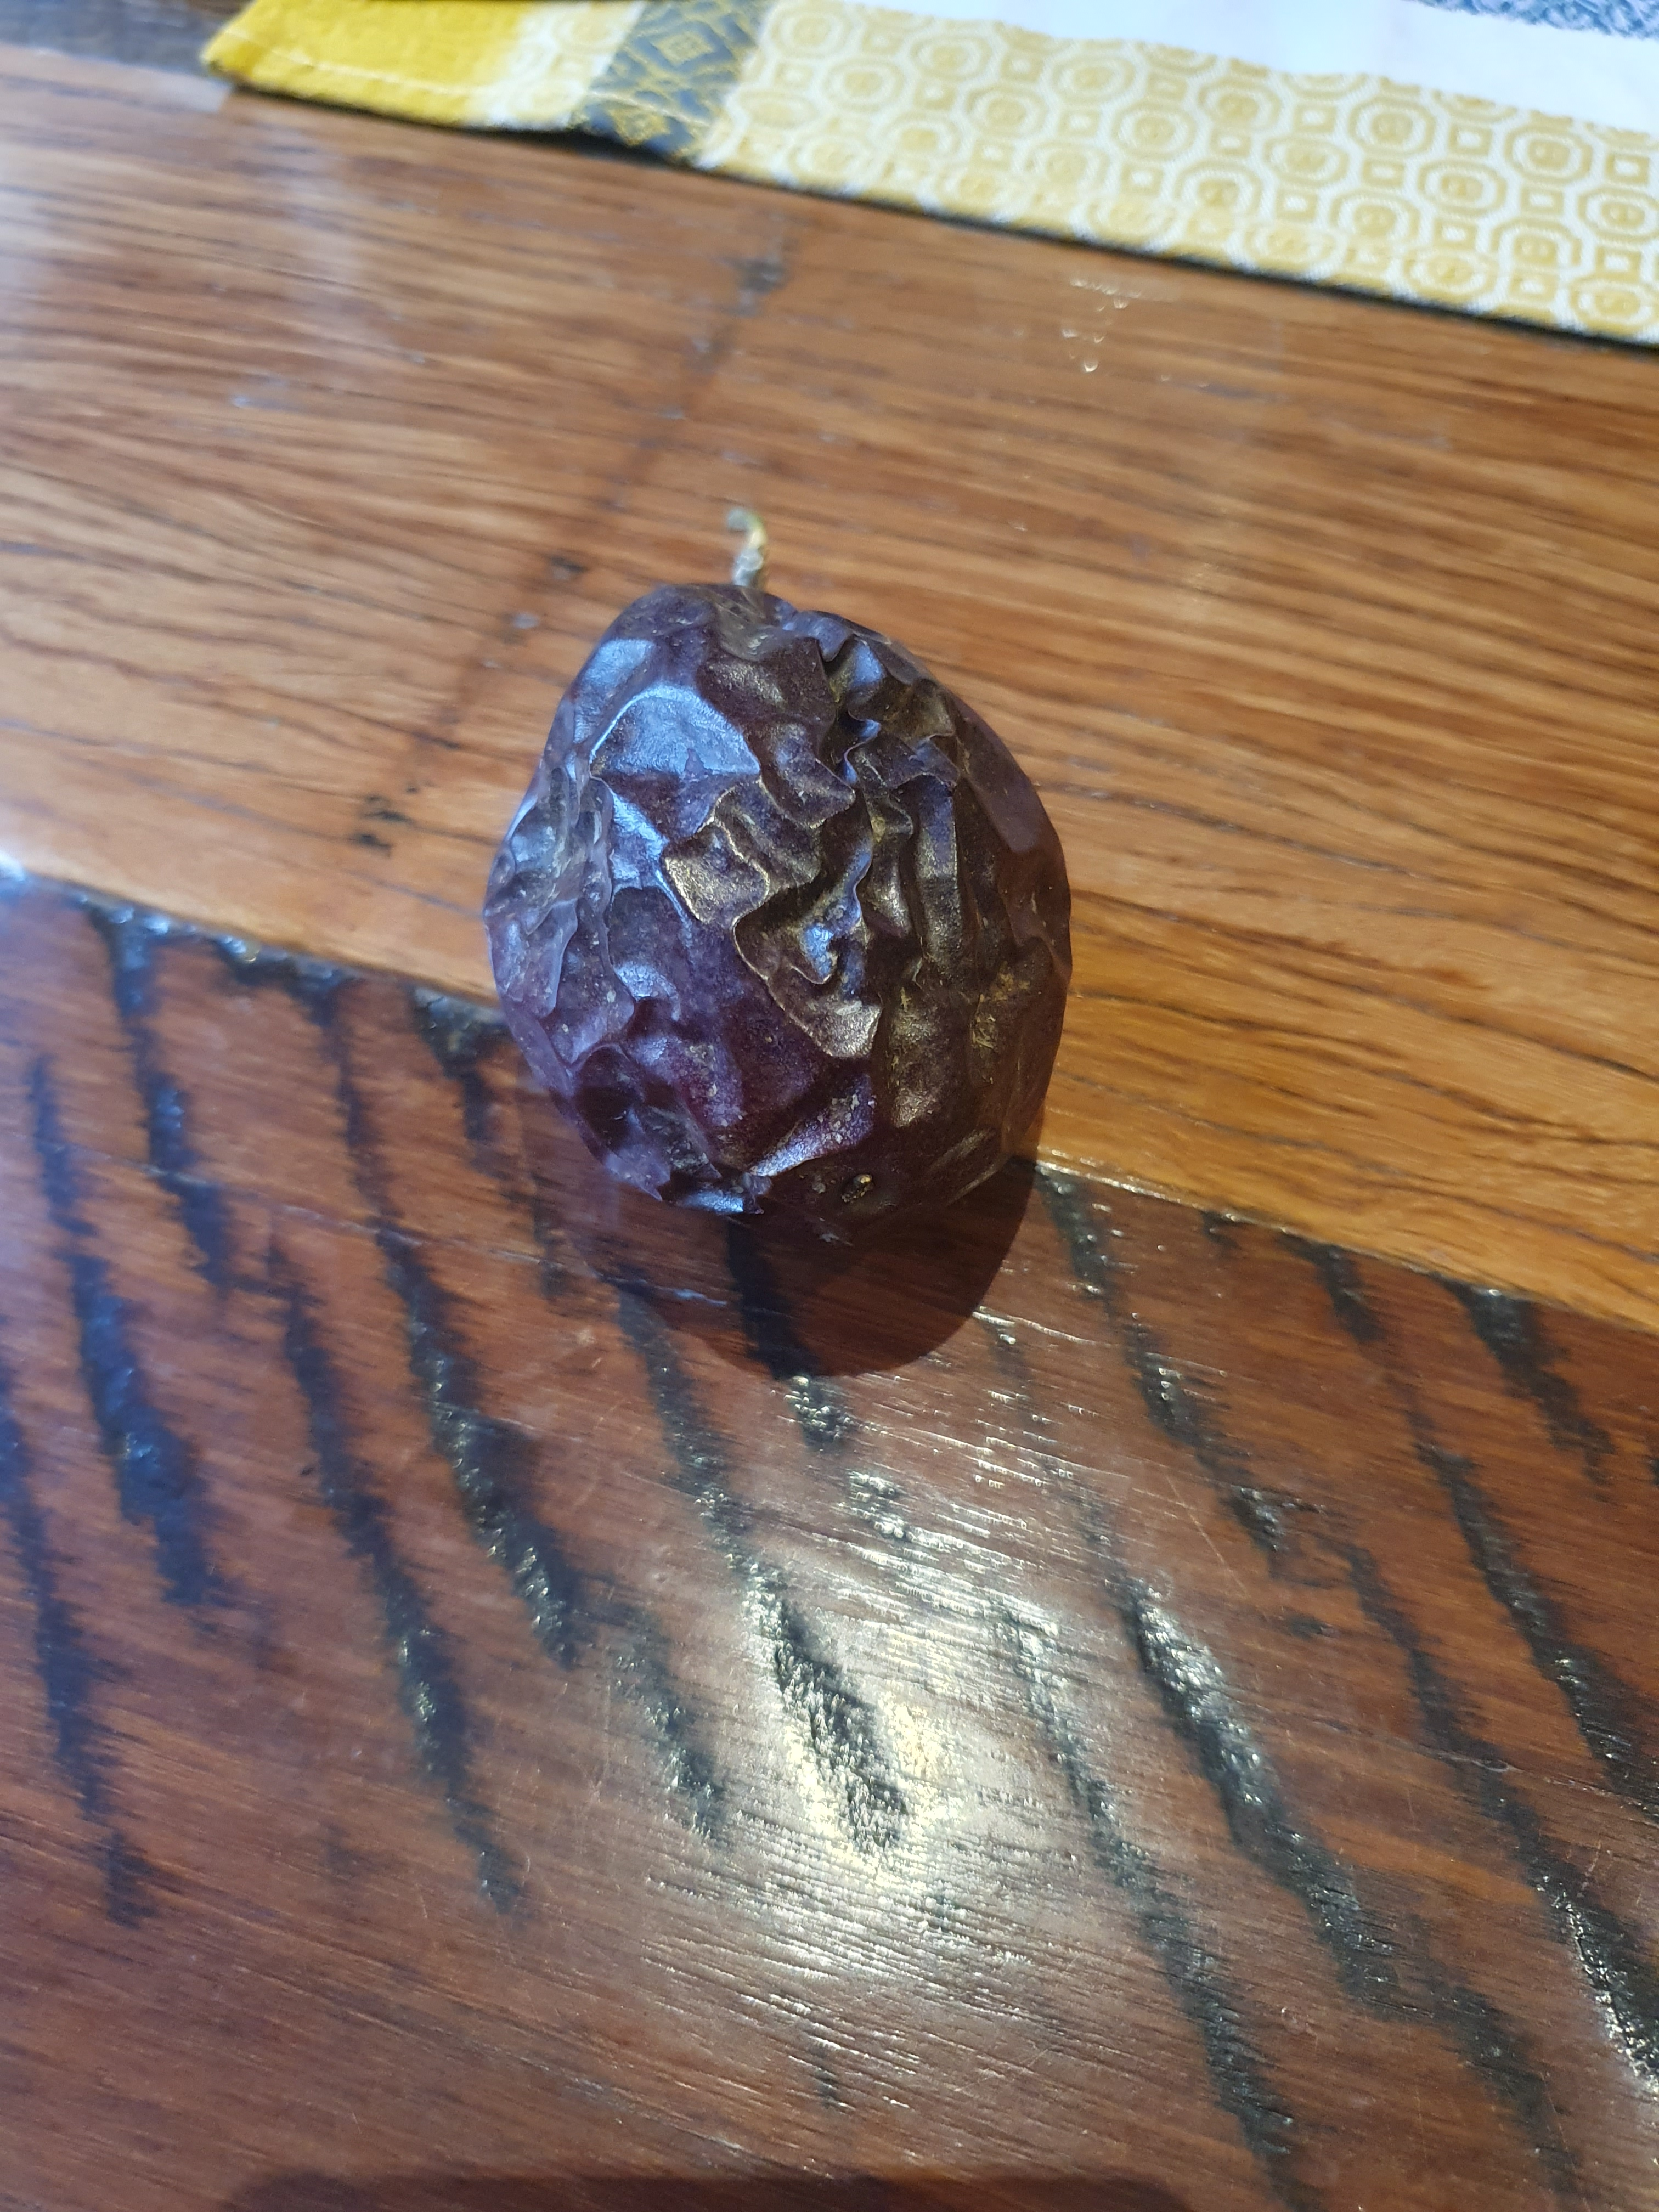passionfruit: (430, 474, 1107, 1334)
